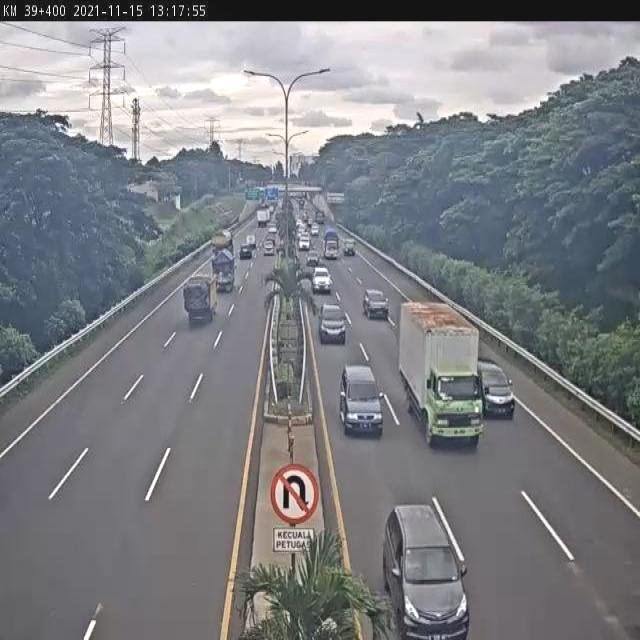Car: (382, 503, 469, 638), (477, 359, 517, 419), (318, 301, 349, 346), (362, 289, 390, 320), (311, 268, 333, 294), (263, 238, 275, 256), (239, 244, 253, 259), (307, 252, 320, 268), (344, 239, 356, 256), (298, 235, 310, 251), (246, 234, 256, 248), (311, 224, 319, 236), (268, 226, 277, 235)
Truck: (400, 300, 482, 449), (183, 274, 219, 326), (210, 250, 235, 293), (324, 230, 340, 260)
Van: (338, 364, 383, 439)
